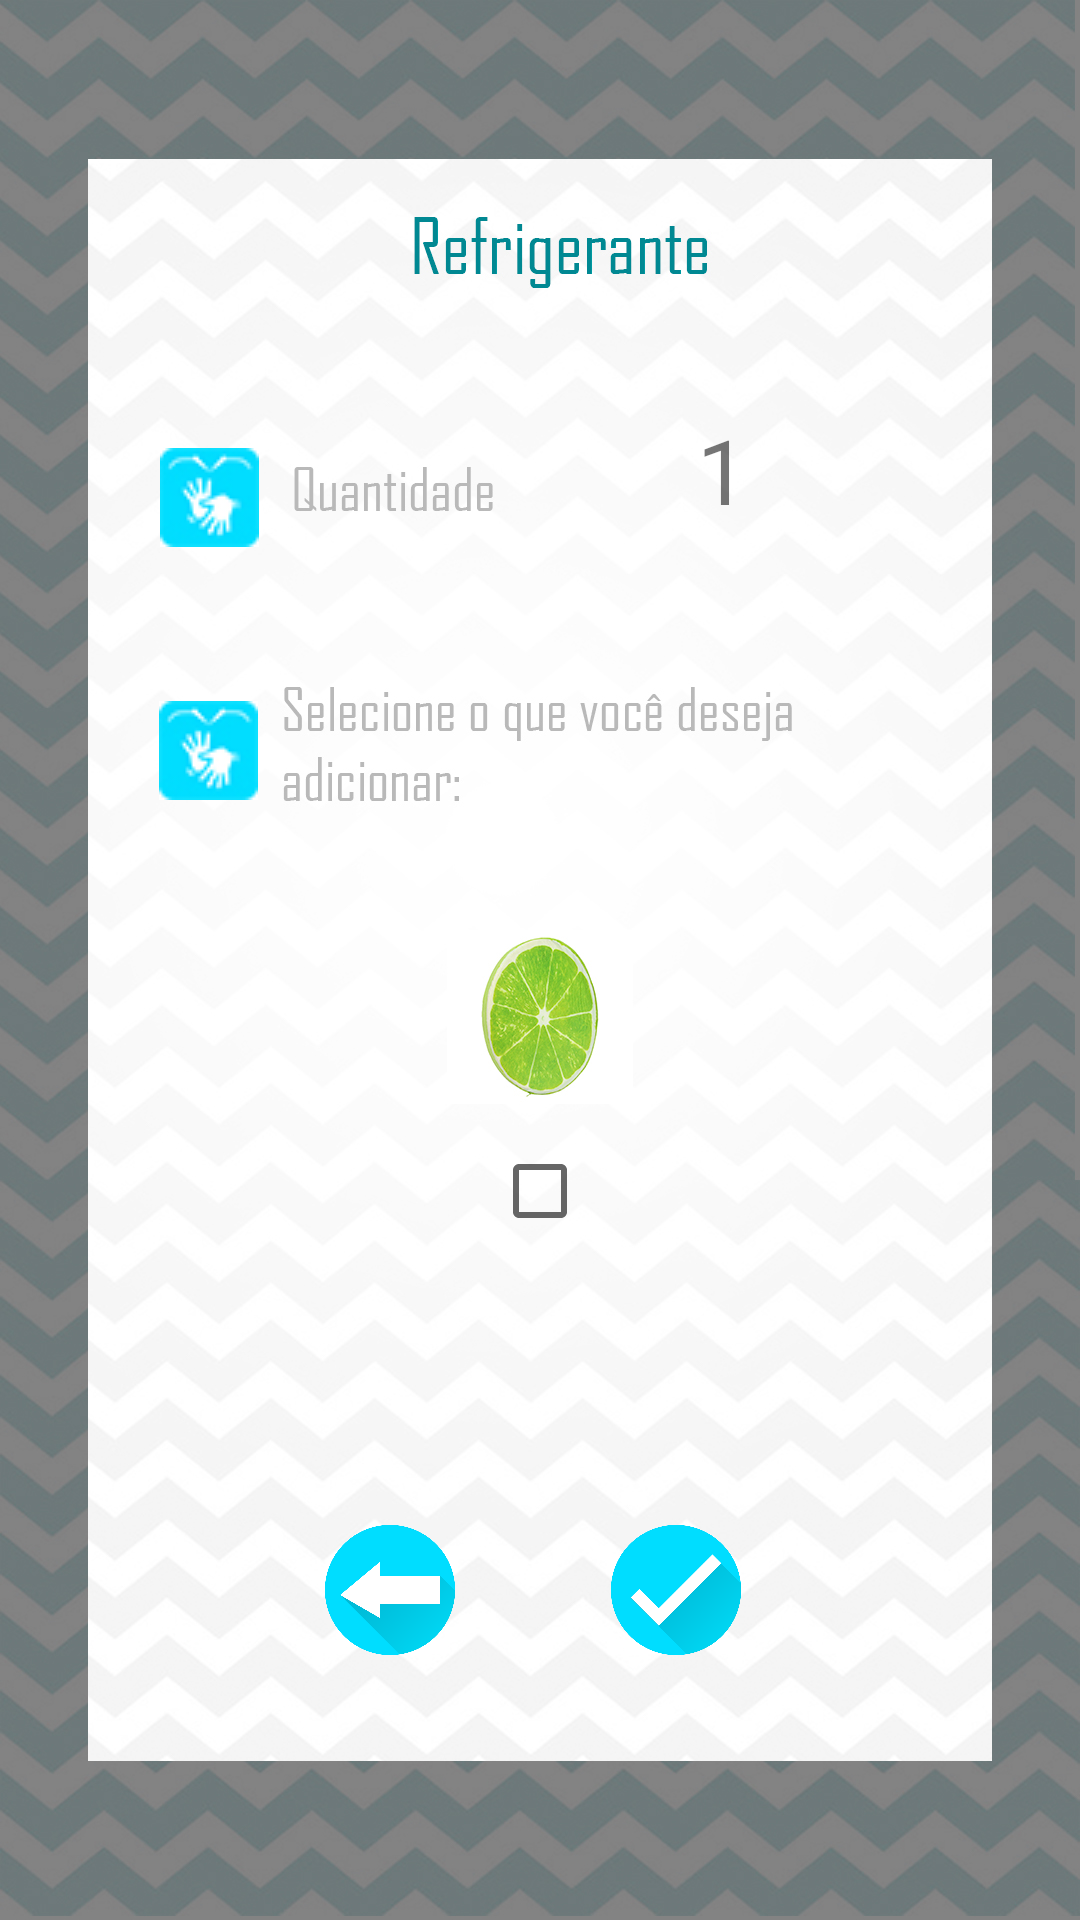

Point at icon controls on the screen. Image size 1080 x 1920, points as (x=x, y=y).
checkcircle: (x=676, y=1590)
seta: (x=390, y=1590)
